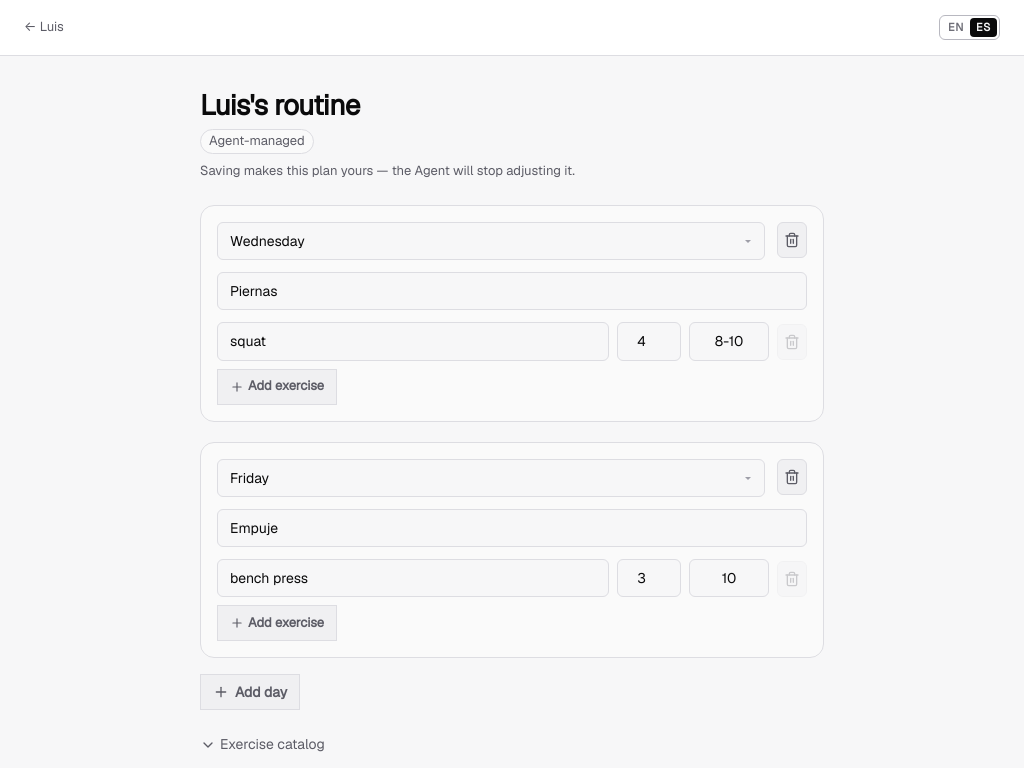
Test case: RoutineEditor › shows catalog chips when catalog section is opened
The width and height of the screenshot is (1024, 768).
// Open catalog details
Click the heading "Exercise catalog" at (262, 744), box [200,736,325,754]
(page scrolled)
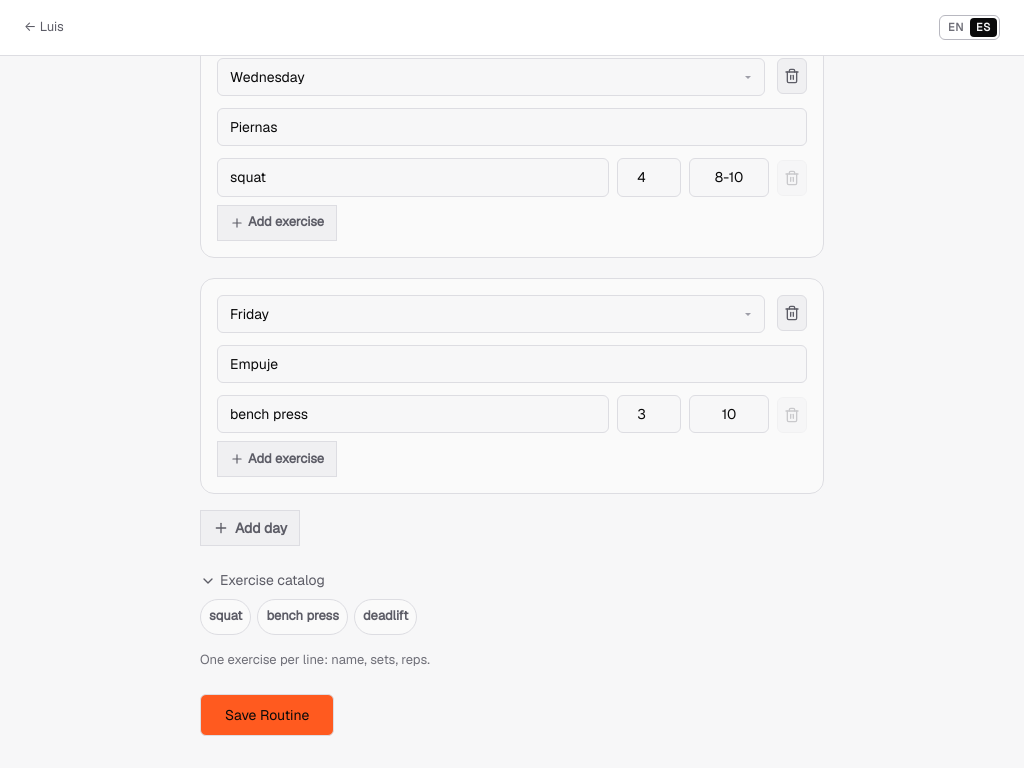
Expected: the button "deadlift" is shown, [354,599,417,635]
